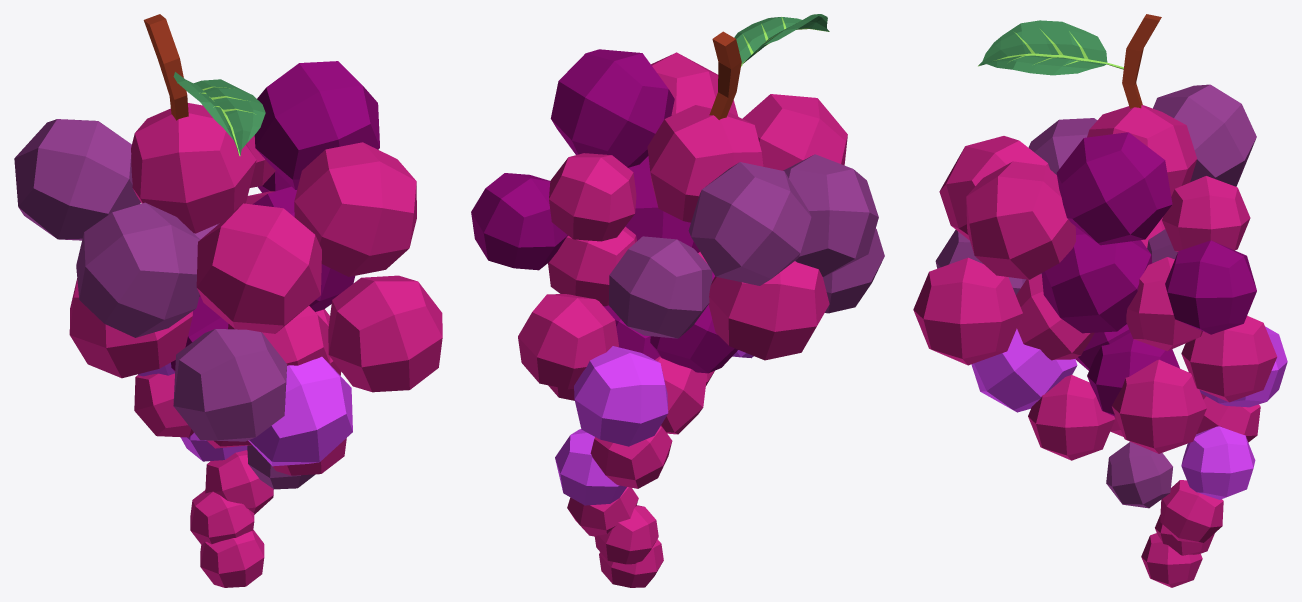
File: grape.purlple.fbx
3 renders of one model, left to right at view 1: azimuth 30°, elevation 25°; view 2: azimuth 150°, elevation 25°; view 3: azimuth 270°, elevation 25°, orthographic. The views are drawn at different scales.
Visible parts, largest first — view 1: Cube.078; view 2: Cube.078; view 3: Cube.078.
Boxes of the visible parts, x1,y1,x2,y2 form: Cube.078: [14, 14, 442, 587]; Cube.078: [471, 14, 884, 587]; Cube.078: [913, 14, 1287, 587].
Bounding box in the file's own units: 114 × 193 × 123.
